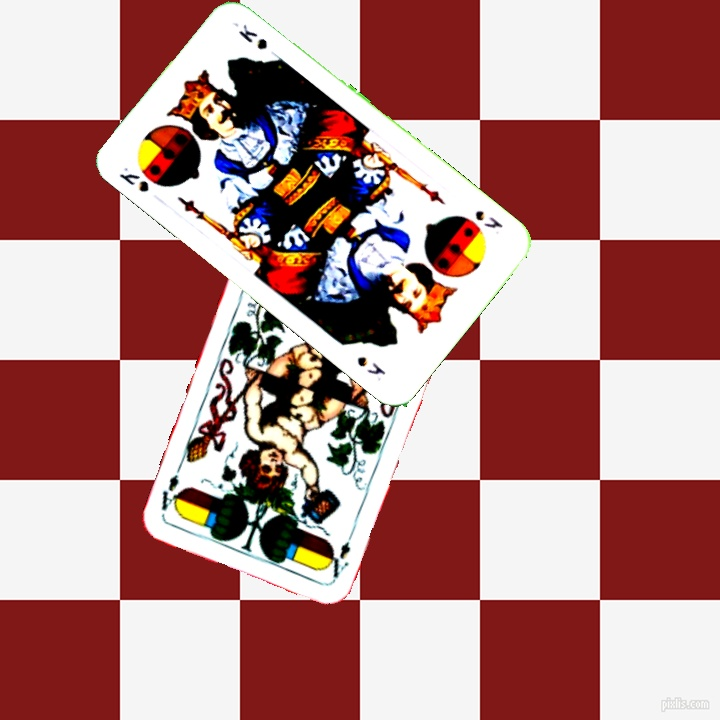EA: (329, 524, 358, 581)
SK: (114, 163, 152, 195), (471, 206, 506, 232)
